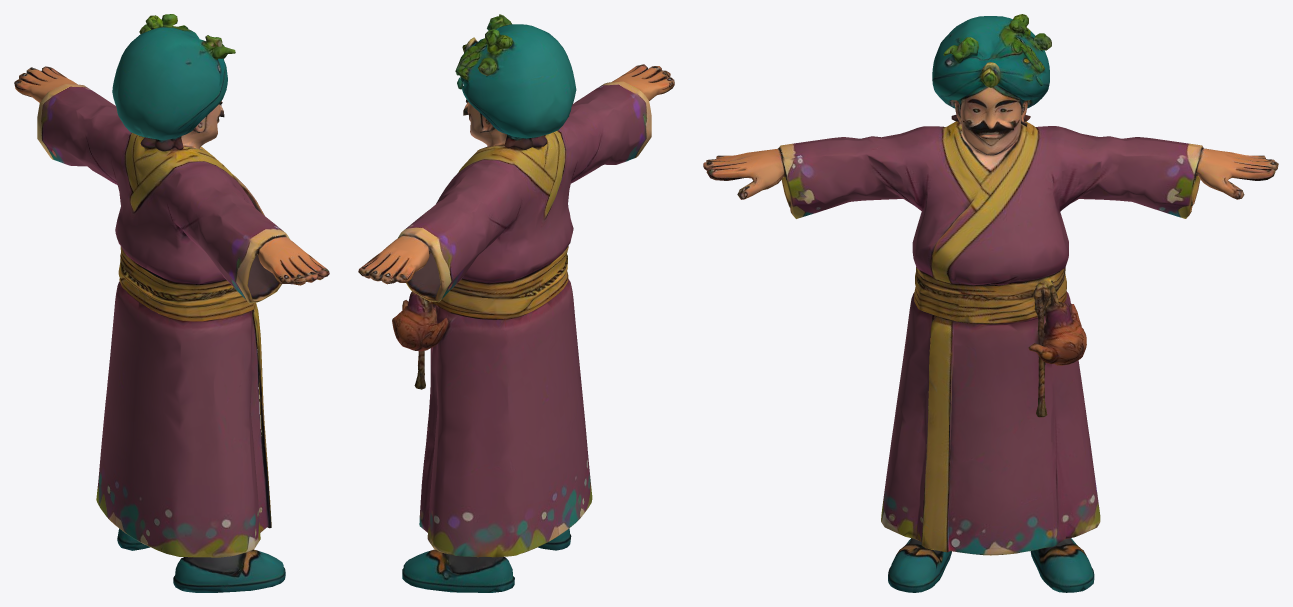
The model's file is n2_teahost.770b404c.glb.
3 renders of one model, left to right at view 1: azimuth 30°, elevation 25°; view 2: azimuth 150°, elevation 25°; view 3: azimuth 270°, elevation 25°, orthographic.
Visible parts, largest first — view 1: tripo_node_12374e50-e27c-4130-81e2-443ba1c7e890; view 2: tripo_node_12374e50-e27c-4130-81e2-443ba1c7e890; view 3: tripo_node_12374e50-e27c-4130-81e2-443ba1c7e890.
Part boxes in pixels (bbox=[...]): tripo_node_12374e50-e27c-4130-81e2-443ba1c7e890: bbox=[14, 14, 329, 592]; tripo_node_12374e50-e27c-4130-81e2-443ba1c7e890: bbox=[358, 14, 674, 592]; tripo_node_12374e50-e27c-4130-81e2-443ba1c7e890: bbox=[703, 14, 1278, 592].
Bounding box in the file's own units: 0.2787 × 1 × 0.9616.
1 material, 1 textured.
